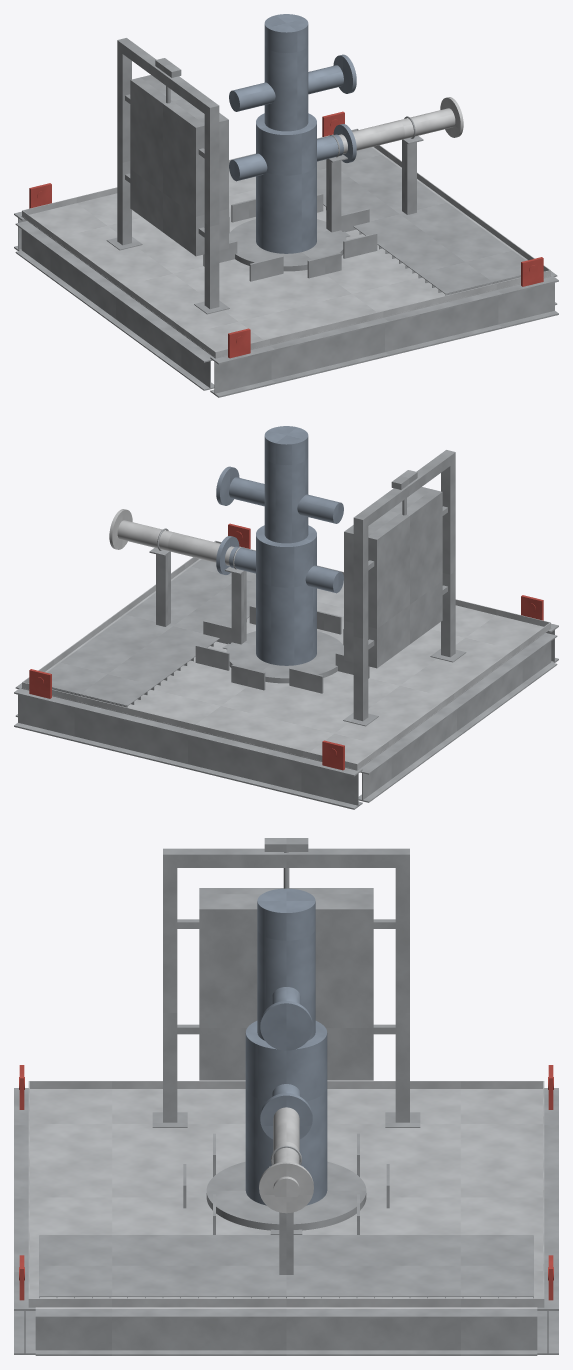
Rendered from wellhead-bases-and-control-frames.glb.
3 views of the same model, one above another, from view 1: azimuth 30°, elevation 25°; view 2: azimuth 150°, elevation 25°; view 3: azimuth 270°, elevation 25° (orthographic). The views are drawn at different scales.
Visible parts, largest first — view 1: DripTray&Deck, Grating,Panel&Tray, BaseFrame, Equipment(context), ControlFrame, TreeRing&Gussets, SkidPiping, Pipe&EquipmentSupports, LiftingLugs; view 2: DripTray&Deck, Grating,Panel&Tray, BaseFrame, Equipment(context), ControlFrame, TreeRing&Gussets, SkidPiping, Pipe&EquipmentSupports, LiftingLugs; view 3: DripTray&Deck, Grating,Panel&Tray, BaseFrame, Equipment(context), ControlFrame, TreeRing&Gussets, SkidPiping, Pipe&EquipmentSupports, LiftingLugs.
Part boxes in pixels (left/top/right/bottom): DripTray&Deck: left=21, top=128, right=551, bottom=358; Grating,Panel&Tray: left=130, top=58, right=525, bottom=295; BaseFrame: left=14, top=211, right=558, bottom=397; Equipment(context): left=229, top=14, right=356, bottom=253; ControlFrame: left=106, top=38, right=229, bottom=314; TreeRing&Gussets: left=203, top=193, right=377, bottom=281; SkidPiping: left=338, top=97, right=463, bottom=153; Pipe&EquipmentSupports: left=326, top=116, right=423, bottom=237; LiftingLugs: left=29, top=111, right=543, bottom=358; DripTray&Deck: left=21, top=540, right=551, bottom=770; Grating,Panel&Tray: left=47, top=470, right=442, bottom=707; BaseFrame: left=14, top=623, right=558, bottom=809; Equipment(context): left=216, top=426, right=343, bottom=665; ControlFrame: left=343, top=450, right=466, bottom=726; TreeRing&Gussets: left=195, top=605, right=369, bottom=693; SkidPiping: left=109, top=509, right=234, bottom=565; Pipe&EquipmentSupports: left=149, top=528, right=246, bottom=649; LiftingLugs: left=29, top=523, right=543, bottom=770; DripTray&Deck: left=28, top=1081, right=544, bottom=1307; Grating,Panel&Tray: left=39, top=838, right=533, bottom=1298; BaseFrame: left=14, top=1088, right=558, bottom=1355; Equipment(context): left=245, top=888, right=327, bottom=1205; ControlFrame: left=152, top=848, right=420, bottom=1127; TreeRing&Gussets: left=183, top=1133, right=389, bottom=1234; SkidPiping: left=259, top=1107, right=313, bottom=1213; Pipe&EquipmentSupports: left=269, top=1145, right=303, bottom=1274; LiftingLugs: left=19, top=1065, right=553, bottom=1300.
Size of the model in its own units: 3.73 by 2.61 by 3.75.
Materials: 5 (5 with a texture image).
